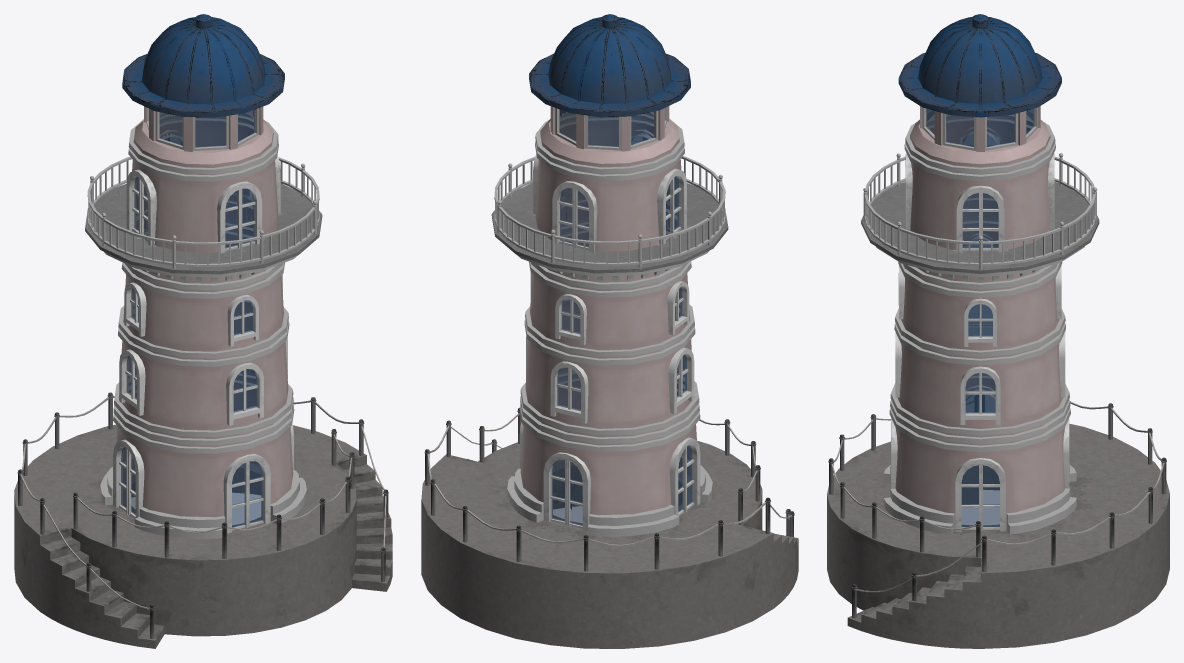
The model's file is sf-lighthouse.glb.
3 views of the same model, side by side, from view 1: azimuth 30°, elevation 25°; view 2: azimuth 150°, elevation 25°; view 3: azimuth 270°, elevation 25° (orthographic).
Parts seen in each view (by area): view 1: house_LOW, stair_LOW, polySurface159, polySurface135, polySurface178, polySurface1; view 2: house_LOW, stair_LOW, polySurface159, polySurface135, polySurface1, polySurface178; view 3: house_LOW, stair_LOW, polySurface159, polySurface135, polySurface1, polySurface178.
Boxes of the visible parts, x1,y1,x2,y2 form: house_LOW: (85, 14, 322, 539); stair_LOW: (14, 424, 392, 648); polySurface159: (113, 107, 293, 533); polySurface135: (121, 110, 262, 527); polySurface178: (17, 392, 388, 638); polySurface1: (87, 156, 319, 268); house_LOW: (491, 14, 728, 536); stair_LOW: (421, 440, 798, 648); polySurface159: (519, 107, 700, 531); polySurface135: (551, 109, 692, 525); polySurface1: (494, 156, 725, 267); polySurface178: (424, 408, 794, 571); house_LOW: (861, 14, 1099, 534); stair_LOW: (827, 423, 1169, 648); polySurface159: (891, 107, 1069, 531); polySurface135: (926, 108, 1033, 527); polySurface1: (863, 145, 1097, 269); polySurface178: (828, 395, 1166, 618).
Bounding box in the file's own units: 24.61 × 39.99 × 22.39.
2 materials, 2 textured.
